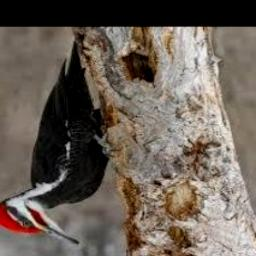Woodpecker: (0, 38, 111, 246)
